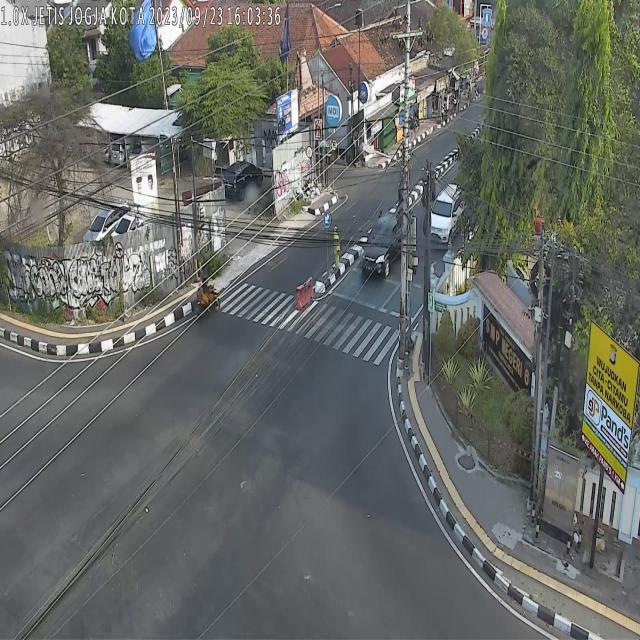car: (361, 213, 402, 276), (429, 183, 466, 250)
motorcycle: (194, 269, 220, 320)
